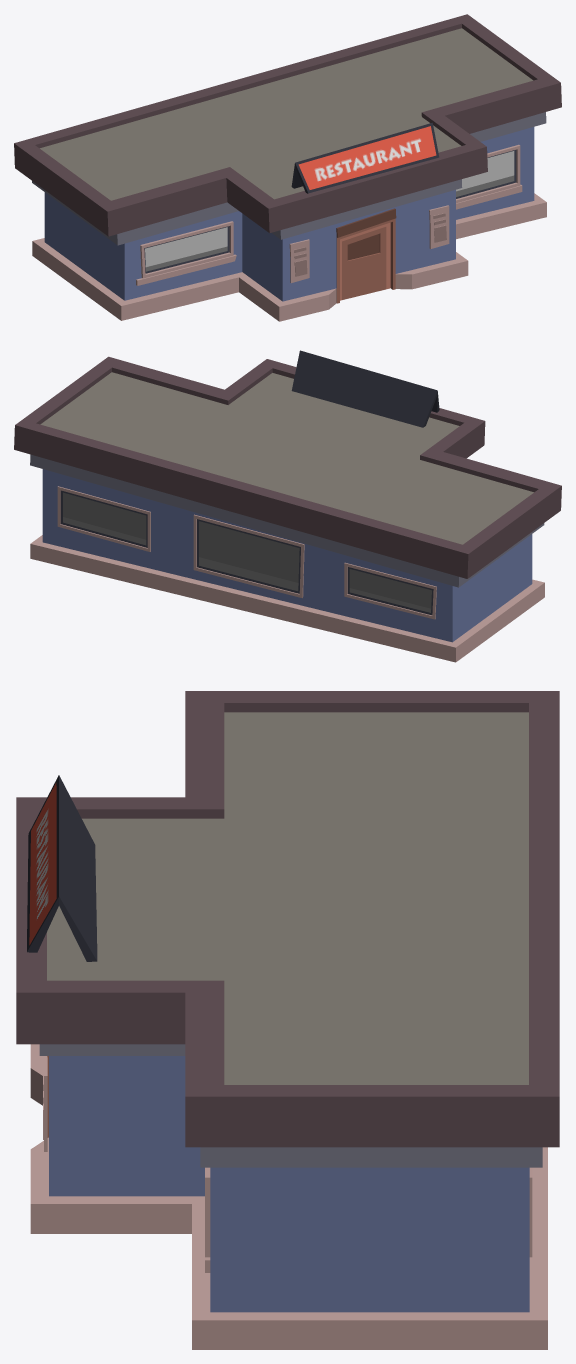
File: restaurant02_color01.fbx
3 views of the same model, one above another, from view 1: azimuth 30°, elevation 25°; view 2: azimuth 150°, elevation 25°; view 3: azimuth 270°, elevation 25° (orthographic). The views are drawn at different scales.
Parts seen in each view (by area): view 1: restaurant02_color01; view 2: restaurant02_color01; view 3: restaurant02_color01.
Part boxes in pixels (box(x1,y1,x2,y2)): restaurant02_color01: box(14, 14, 561, 321); restaurant02_color01: box(14, 350, 561, 662); restaurant02_color01: box(16, 691, 559, 1349).
Bounding box in the file's own units: 2266 × 738 × 1173.
